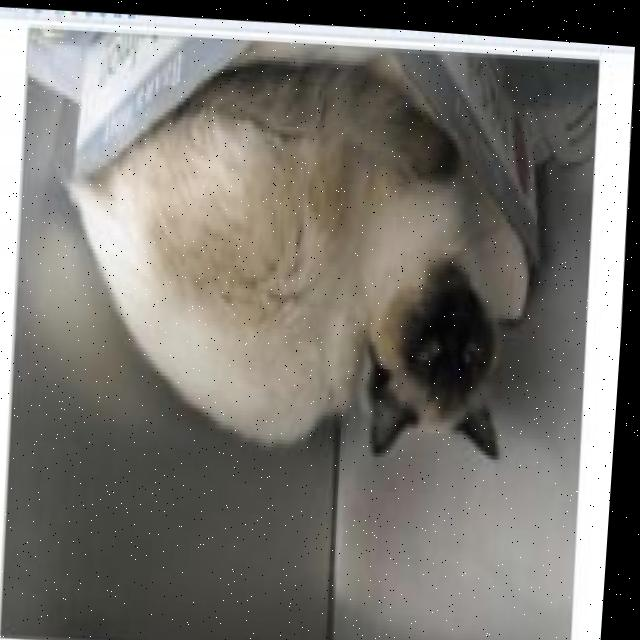Birman: (53, 42, 527, 467)
